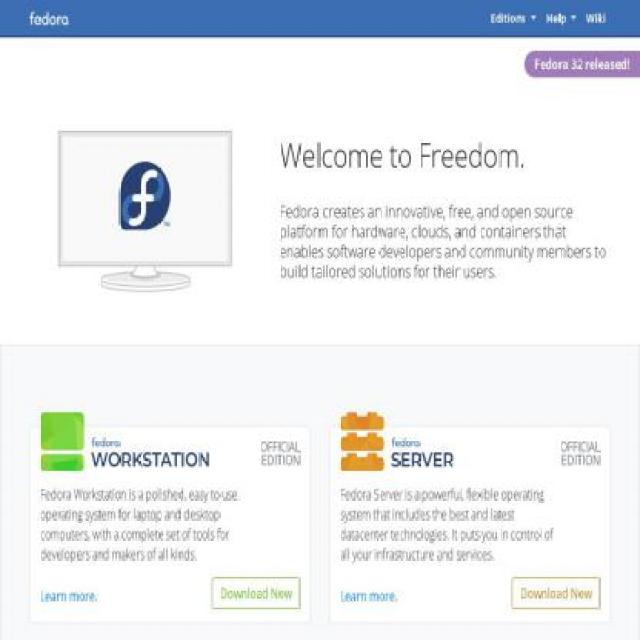button: (212, 578, 300, 610), (512, 578, 600, 610), (485, 2, 541, 33), (29, 0, 71, 37), (541, 2, 582, 33), (582, 2, 610, 33)
